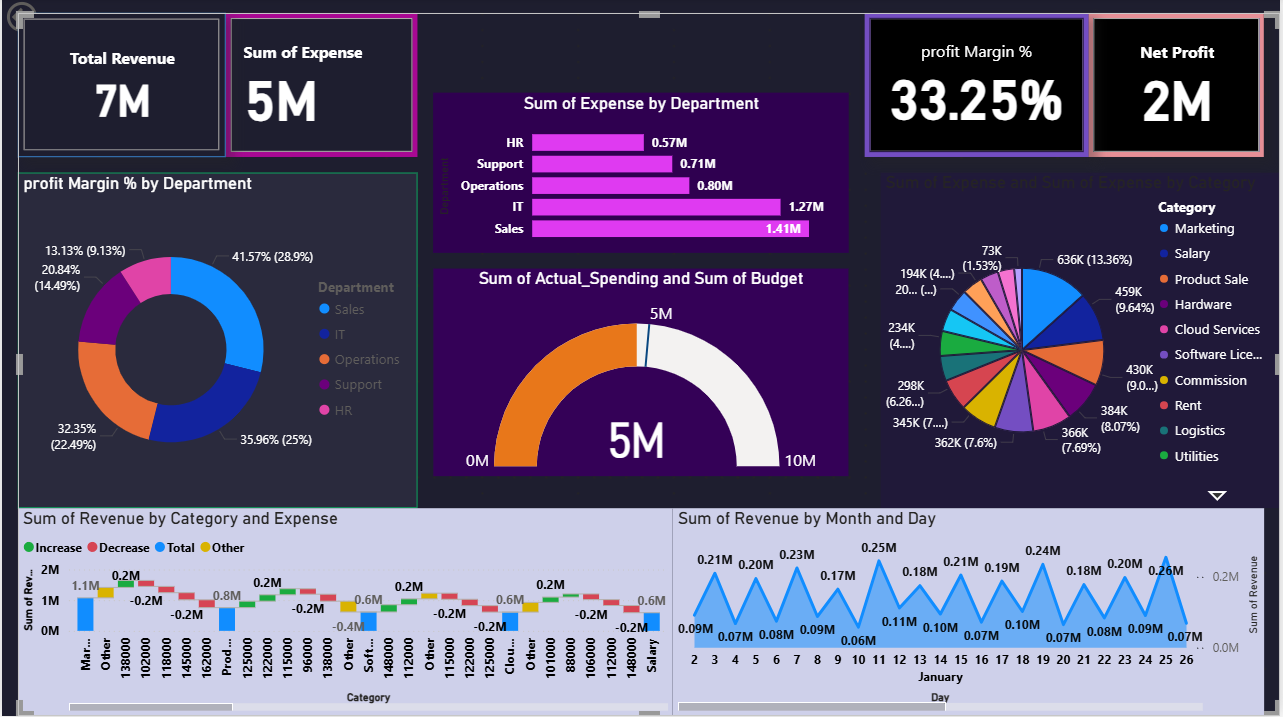

What the dashboard file says about the page in this screenshot:
{"tool":"powerbi","page":{"name":"Page 1","canvas":[1280,720],"ordinal":0},"visuals":[{"type":"cardVisual","fields":{"Data":["Sum(Sheet1.Profit)"]},"box":[1088,16,176,144],"z":0,"group":"g5"},{"type":"group","id":"g1","title":"Group 2","box":[16,176,1264,336],"z":0,"group":"g4"},{"type":"lineChart","fields":{"Category":["Sheet1.Transaction_Date.Variation.Date Hierarchy.Month","Sheet1.Transaction_Date.Variation.Date Hierarchy.Day"],"Y2":["Sum(Sheet1.Revenue)"]},"box":[672,512,592,208],"z":0,"group":"g3"},{"type":"group","id":"g2","title":"Group 3","box":[16,16,1248,464],"z":1000,"group":"g4"},{"type":"clusteredBarChart","fields":{"Y":["Sum(Sheet1.Expense)"],"Category":["Sheet1.Department"]},"box":[432,96,416,160],"z":1000,"group":"g2"},{"type":"donutChart","fields":{"Y":["Sheet1.profit Margin %"],"Category":["Sheet1.Department"]},"box":[16,176,400,336],"z":1000,"group":"g1"},{"type":"waterfallChart","fields":{"Category":["Sheet1.Category"],"Breakdown":["Sheet1.Expense"],"Y":["Sum(Sheet1.Revenue)"]},"box":[16,512,656,208],"z":1000,"group":"g3"},{"type":"cardVisual","fields":{"Data":["Sheet1.profit Margin %"]},"box":[864,16,224,144],"z":2000,"group":"g5"},{"type":"group","id":"g3","title":"Group 5","box":[16,512,1248,208],"z":2000,"group":"g4"},{"type":"gauge","fields":{"Y":["Sum(Sheet1.Actual_Spending)"],"TargetValue":["Sum(Sheet1.Budget)"]},"box":[432,272,416,208],"z":3000,"group":"g2"},{"type":"pieChart","fields":{"Category":["Sheet1.Category"],"Y":["Sum(Sheet1.Expense)"]},"box":[880,176,400,336],"z":6000,"group":"g1"},{"type":"actionButton","box":[0,0,100,40],"z":7000},{"type":"cardVisual","fields":{"Data":["Sum(Sheet1.Expense)"]},"box":[224,16,192,144],"z":8000,"group":"g5"},{"type":"cardVisual","title":"Total Revenue","fields":{"Data":["Sum(Sheet1.Revenue)"]},"box":[16,16,208,144],"z":9000,"group":"g5"},{"type":"group","id":"g4","title":"Group 4","box":[16,16,1264,704],"z":9001},{"type":"group","id":"g5","title":"Group 1","box":[16,16,1248,144],"z":10000,"group":"g2"}]}

Visuals, with their boxes in screenshot pixels (x1, y1, x2, y2), scaled from the page's 1280x720 canvas onto the 1283x717 screenshot:
cardVisual - Sum(Sheet1.Profit): (x1=1091, y1=16, x2=1267, y2=159)
"Group 2" group: (x1=16, y1=175, x2=1282, y2=510)
lineChart - Sheet1.Transaction_Date.Variation.Date Hierarchy.Month x Sheet1.Transaction_Date.Variation.Date Hierarchy.Day: (x1=674, y1=510, x2=1267, y2=716)
"Group 3" group: (x1=16, y1=16, x2=1267, y2=478)
clusteredBarChart - Sum(Sheet1.Expense) x Sheet1.Department: (x1=433, y1=96, x2=850, y2=255)
donutChart - Sheet1.profit Margin % x Sheet1.Department: (x1=16, y1=175, x2=417, y2=510)
waterfallChart - Sheet1.Category x Sheet1.Expense: (x1=16, y1=510, x2=674, y2=716)
cardVisual - Sheet1.profit Margin %: (x1=866, y1=16, x2=1091, y2=159)
"Group 5" group: (x1=16, y1=510, x2=1267, y2=716)
gauge - Sum(Sheet1.Actual_Spending) x Sum(Sheet1.Budget): (x1=433, y1=271, x2=850, y2=478)
pieChart - Sheet1.Category x Sum(Sheet1.Expense): (x1=882, y1=175, x2=1282, y2=510)
actionButton: (x1=0, y1=0, x2=100, y2=40)
cardVisual - Sum(Sheet1.Expense): (x1=225, y1=16, x2=417, y2=159)
"Total Revenue" cardVisual: (x1=16, y1=16, x2=225, y2=159)
"Group 4" group: (x1=16, y1=16, x2=1282, y2=716)
"Group 1" group: (x1=16, y1=16, x2=1267, y2=159)
